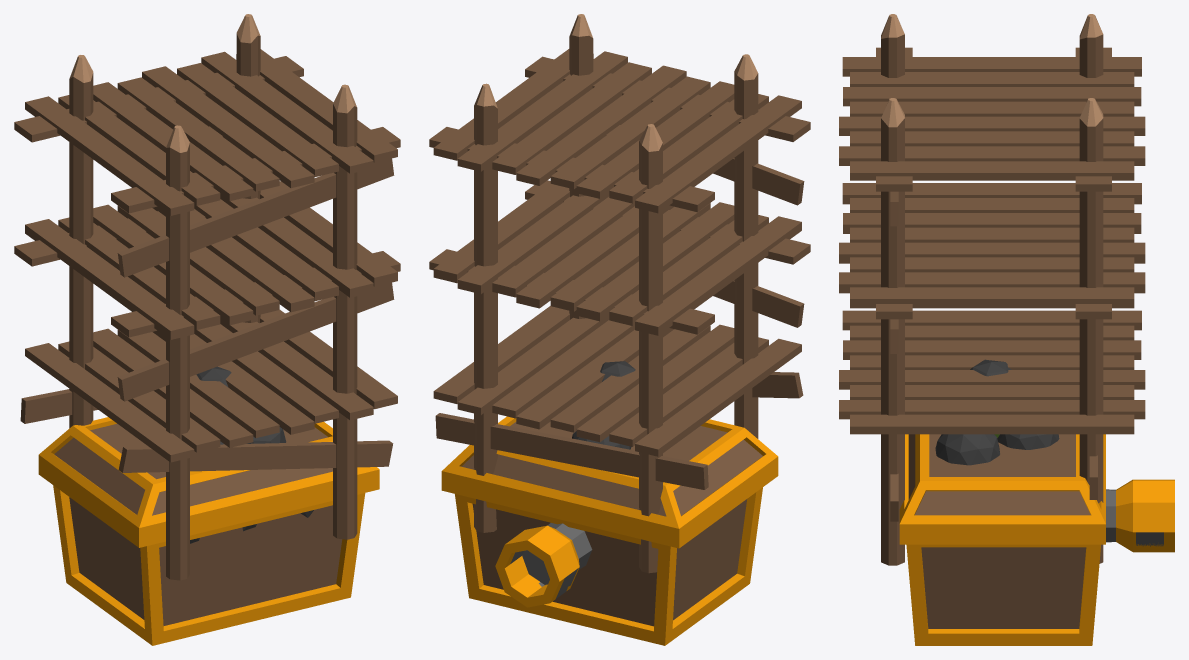
File: props2.fbx
The picture shows the model from 3 angles, left to right: view 1: azimuth 30°, elevation 25°; view 2: azimuth 150°, elevation 25°; view 3: azimuth 270°, elevation 25°; orthographic projection. The views are drawn at different scales.
Visible parts, largest first — view 1: Tower2, Cube, Tower1, Balls; view 2: Tower2, Cube, Tower1, TowerCannon2, TowerCannon, Balls; view 3: Tower2, Cube, Tower1, TowerCannon2, Balls, TowerCannon.
Boxes of the visible parts, left/top/right/bottom form: Tower2: left=14, top=14, right=400, bottom=580; Cube: left=38, top=417, right=379, bottom=645; Tower1: left=14, top=181, right=400, bottom=580; Balls: left=190, top=366, right=313, bottom=543; Tower2: left=429, top=14, right=810, bottom=573; Cube: left=441, top=416, right=778, bottom=645; Tower1: left=429, top=180, right=810, bottom=572; TowerCannon2: left=495, top=525, right=579, bottom=607; TowerCannon: left=510, top=523, right=592, bottom=598; Balls: left=572, top=361, right=635, bottom=449; Tower2: left=839, top=14, right=1145, bottom=565; Cube: left=899, top=434, right=1105, bottom=645; Tower1: left=839, top=196, right=1145, bottom=564; TowerCannon2: left=1116, top=479, right=1174, bottom=552; Balls: left=935, top=359, right=1059, bottom=465; TowerCannon: left=1106, top=489, right=1163, bottom=546.
Bounding box in the file's own units: 27.6 × 50.63 × 28.63.
Materials: 1 (1 with a texture image).
